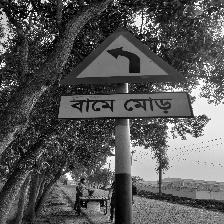Left-Turn: (57, 26, 196, 122)
